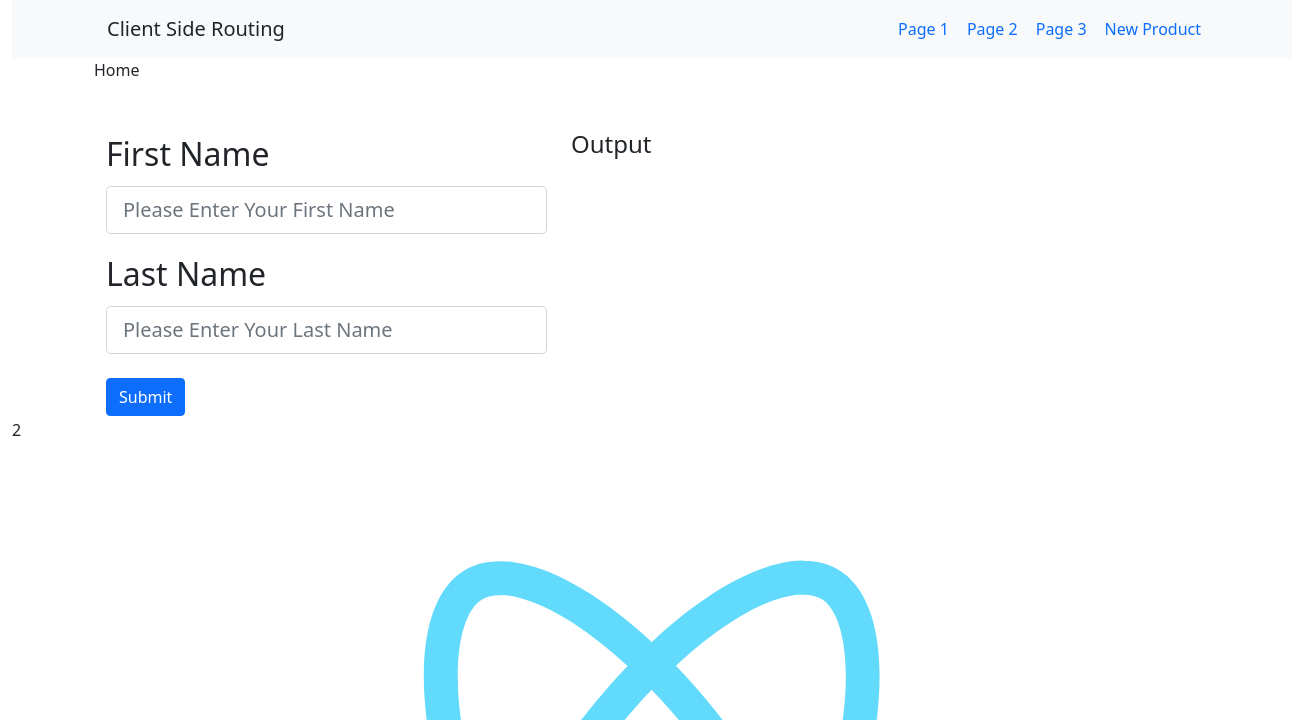
React router useParamsHook › Clicking the 'New Product' link should navigate to the url /products/new
Expected: the heading "Router: " is not shown
Click the link "New Product" at coordinates (1153, 29), box [1105,18,1201,40]
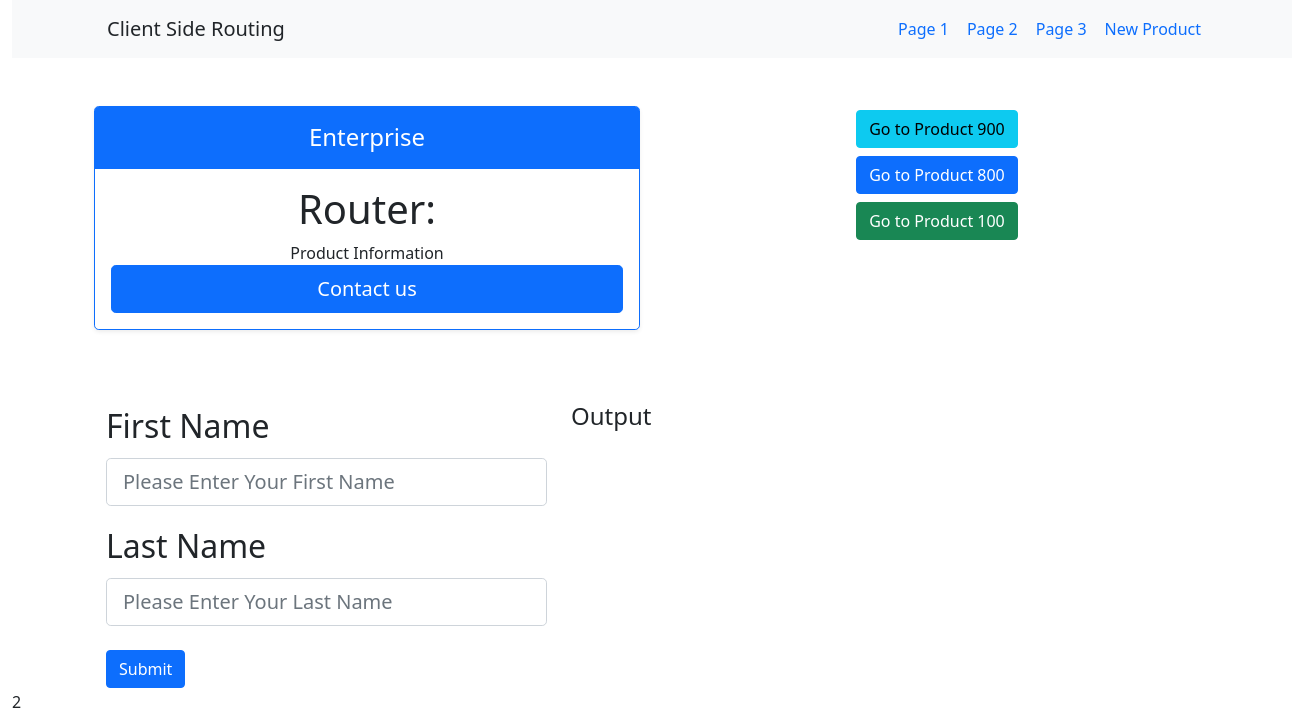
Result: the heading "Router:" is shown at [298,181,436,236]
